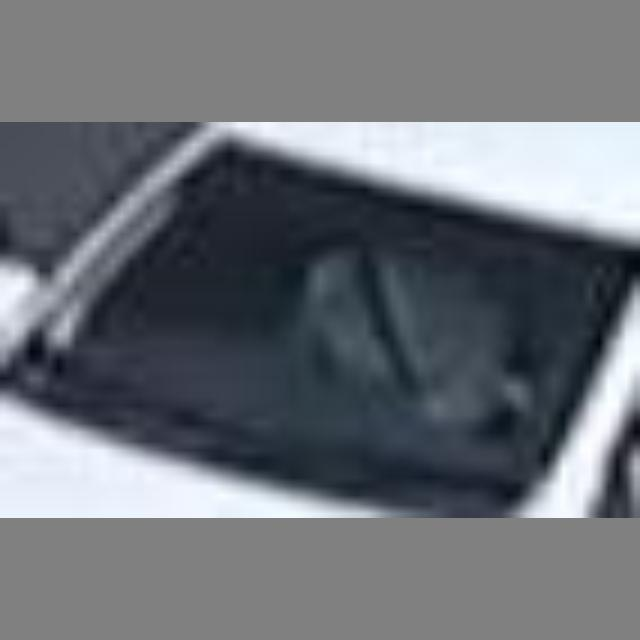pakai: (288, 221, 514, 419)
